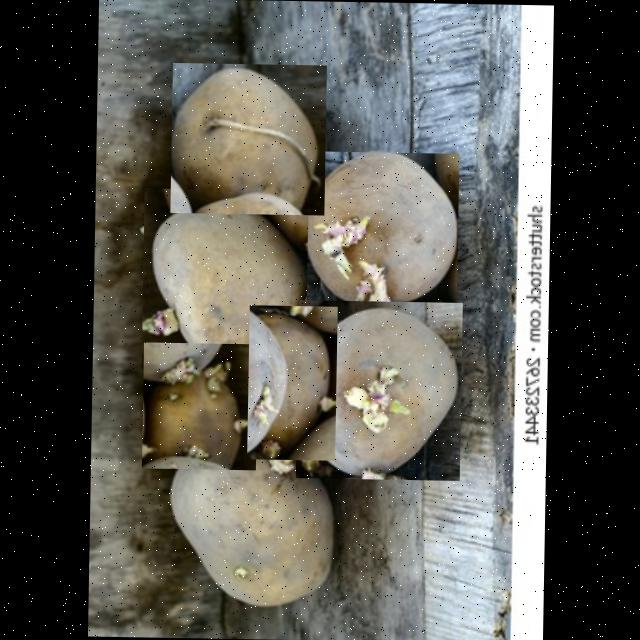Sprouted potato: (161, 419, 336, 613), (141, 187, 308, 370), (296, 298, 462, 480), (298, 150, 459, 318), (170, 61, 326, 214), (142, 341, 258, 469), (246, 304, 338, 459)
